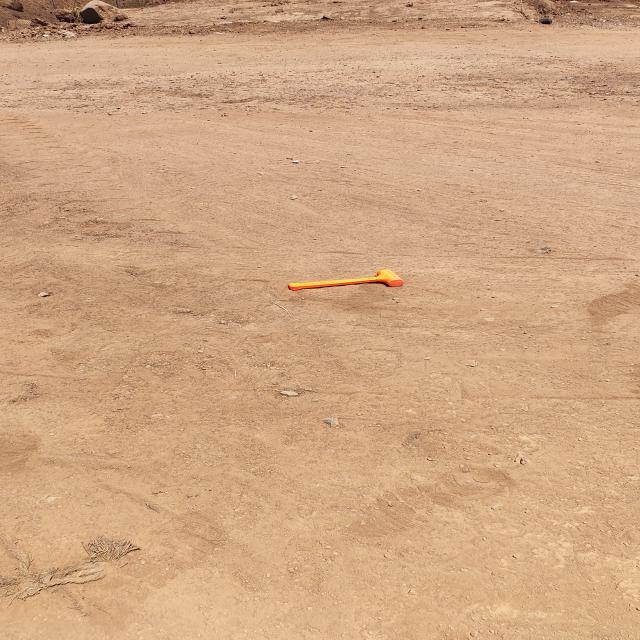Orange_hammer: (286, 268, 403, 291)
